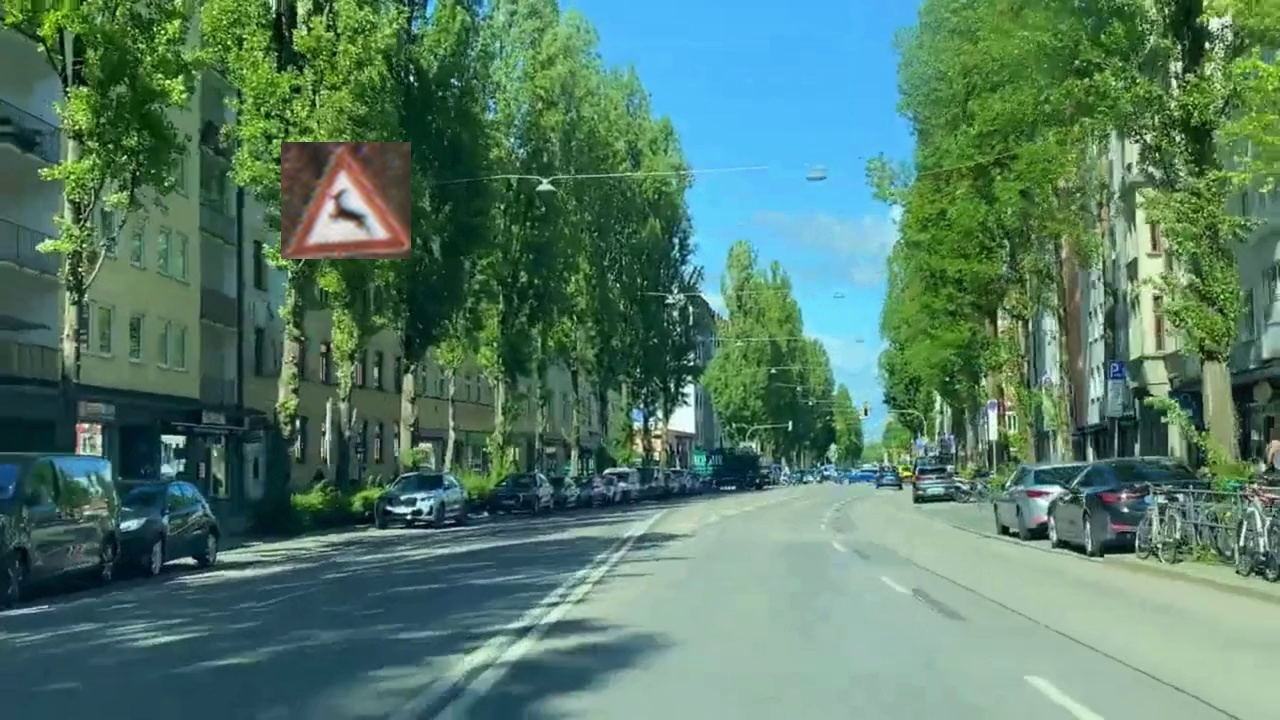Wild animals: (281, 142, 411, 259)
